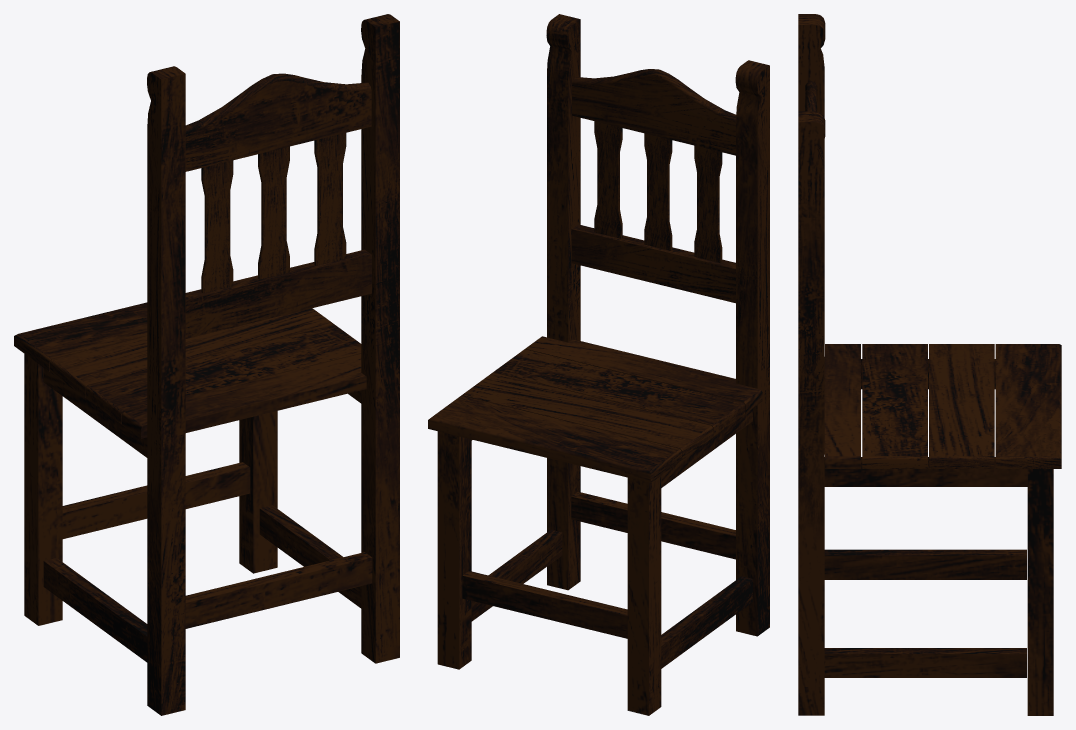
Rendered from cadeira_escritorio.glb.
3 renders of one model, left to right at view 1: azimuth 30°, elevation 25°; view 2: azimuth 150°, elevation 25°; view 3: azimuth 270°, elevation 25°, orthographic. The views are drawn at different scales.
Visible parts, largest first — view 1: Object_2; view 2: Object_2; view 3: Object_2.
Part boxes in pixels (x1,y1,x2,y2): Object_2: (14, 14, 399, 715); Object_2: (428, 14, 769, 715); Object_2: (798, 14, 1061, 715).
Size of the model in its own units: 0.4145 by 1 by 0.4019.
1 material, 1 textured.
